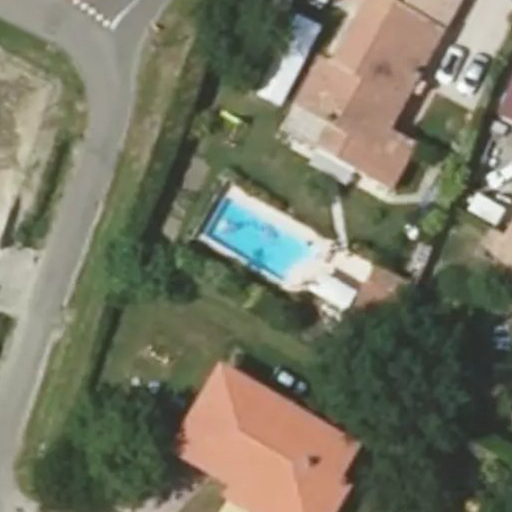pool: (202, 233, 323, 250)
